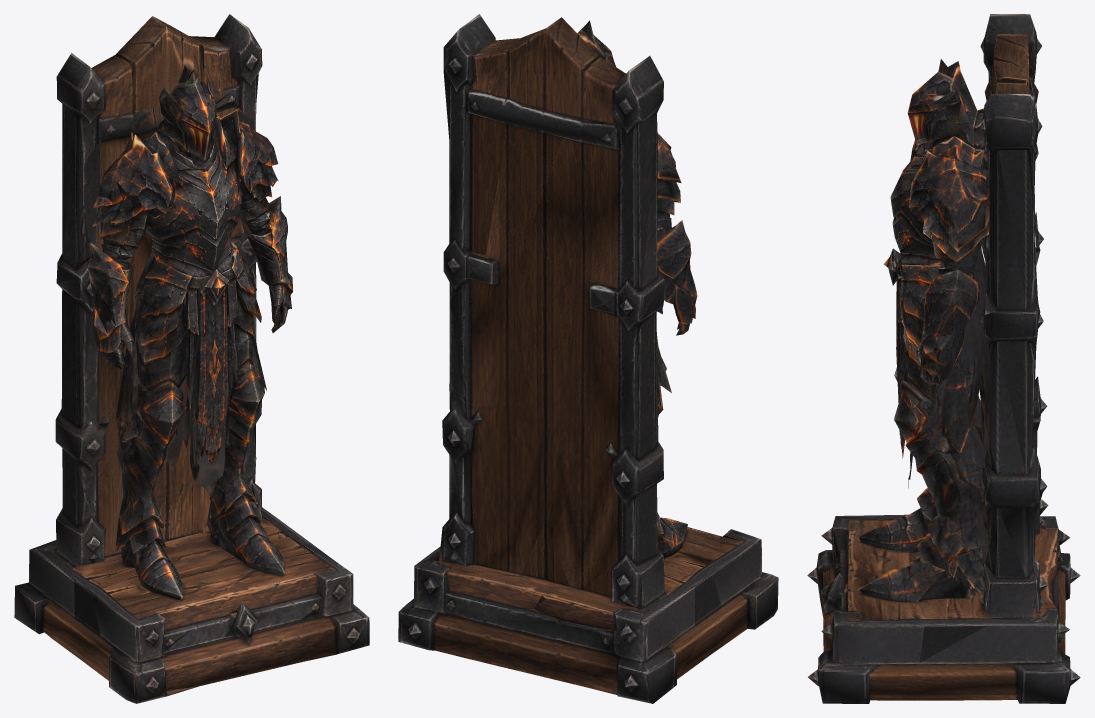
File: armor-stand-lava.glb
3 views of the same model, side by side, from view 1: azimuth 30°, elevation 25°; view 2: azimuth 150°, elevation 25°; view 3: azimuth 270°, elevation 25° (orthographic). The views are drawn at different scales.
Bounding box in the file's own units: 0.8482 × 2 × 0.8131.
1 material, 1 textured.
